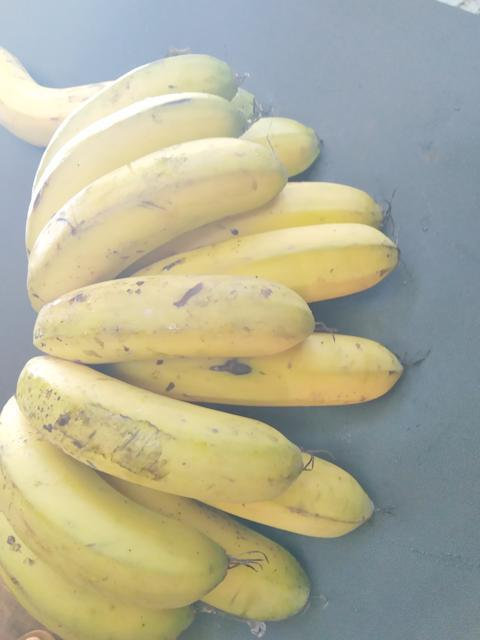ripe: (9, 154, 274, 322), (0, 407, 232, 593), (17, 360, 328, 490), (27, 262, 343, 389), (12, 87, 248, 256), (161, 214, 387, 317)
